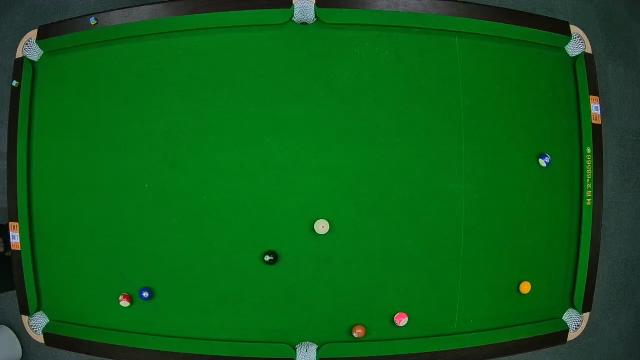bag1: (20, 40, 42, 62)
bag2: (292, 2, 316, 26)
bag4: (29, 311, 49, 333)
bag5: (294, 340, 318, 360)
bag6: (562, 308, 582, 330)
ball0: (314, 219, 331, 235)
ball1: (518, 280, 534, 296)
ball10: (536, 153, 552, 169)
ball11: (117, 294, 131, 308)
ball12: (394, 312, 408, 326)
ball2: (139, 285, 155, 301)
ball7: (351, 324, 365, 338)
ball8: (262, 250, 278, 266)
